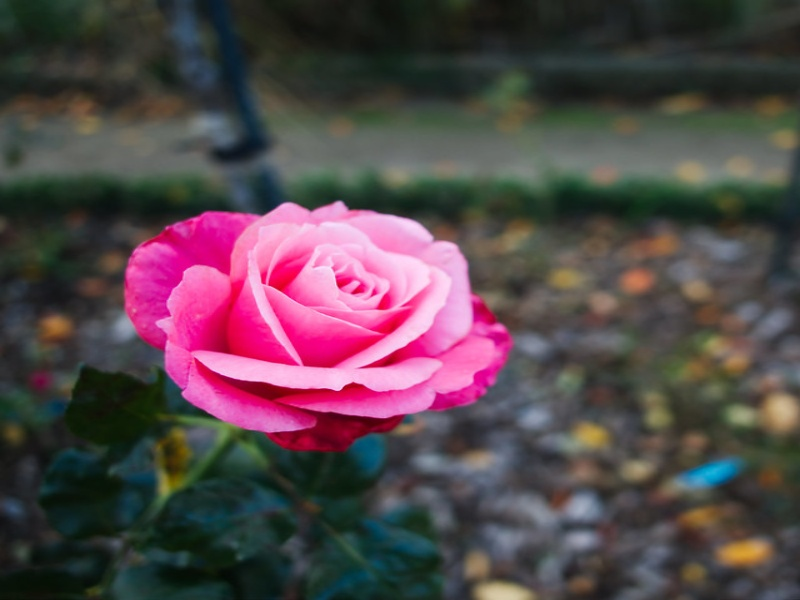rose: (111, 156, 536, 476)
